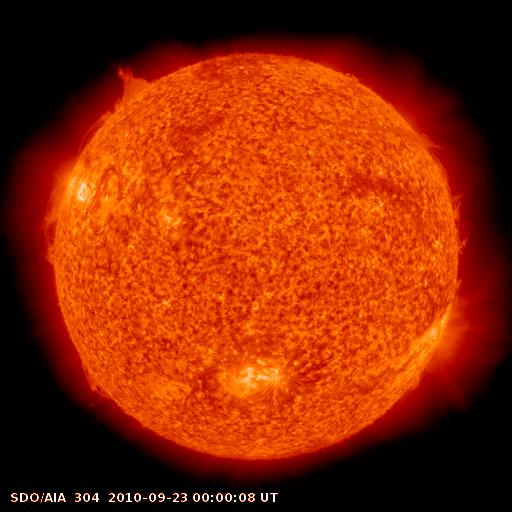prominence: (25, 174, 73, 268), (110, 59, 170, 114), (406, 121, 452, 189), (71, 108, 128, 158), (77, 353, 115, 414), (449, 190, 478, 265), (338, 63, 373, 94)
